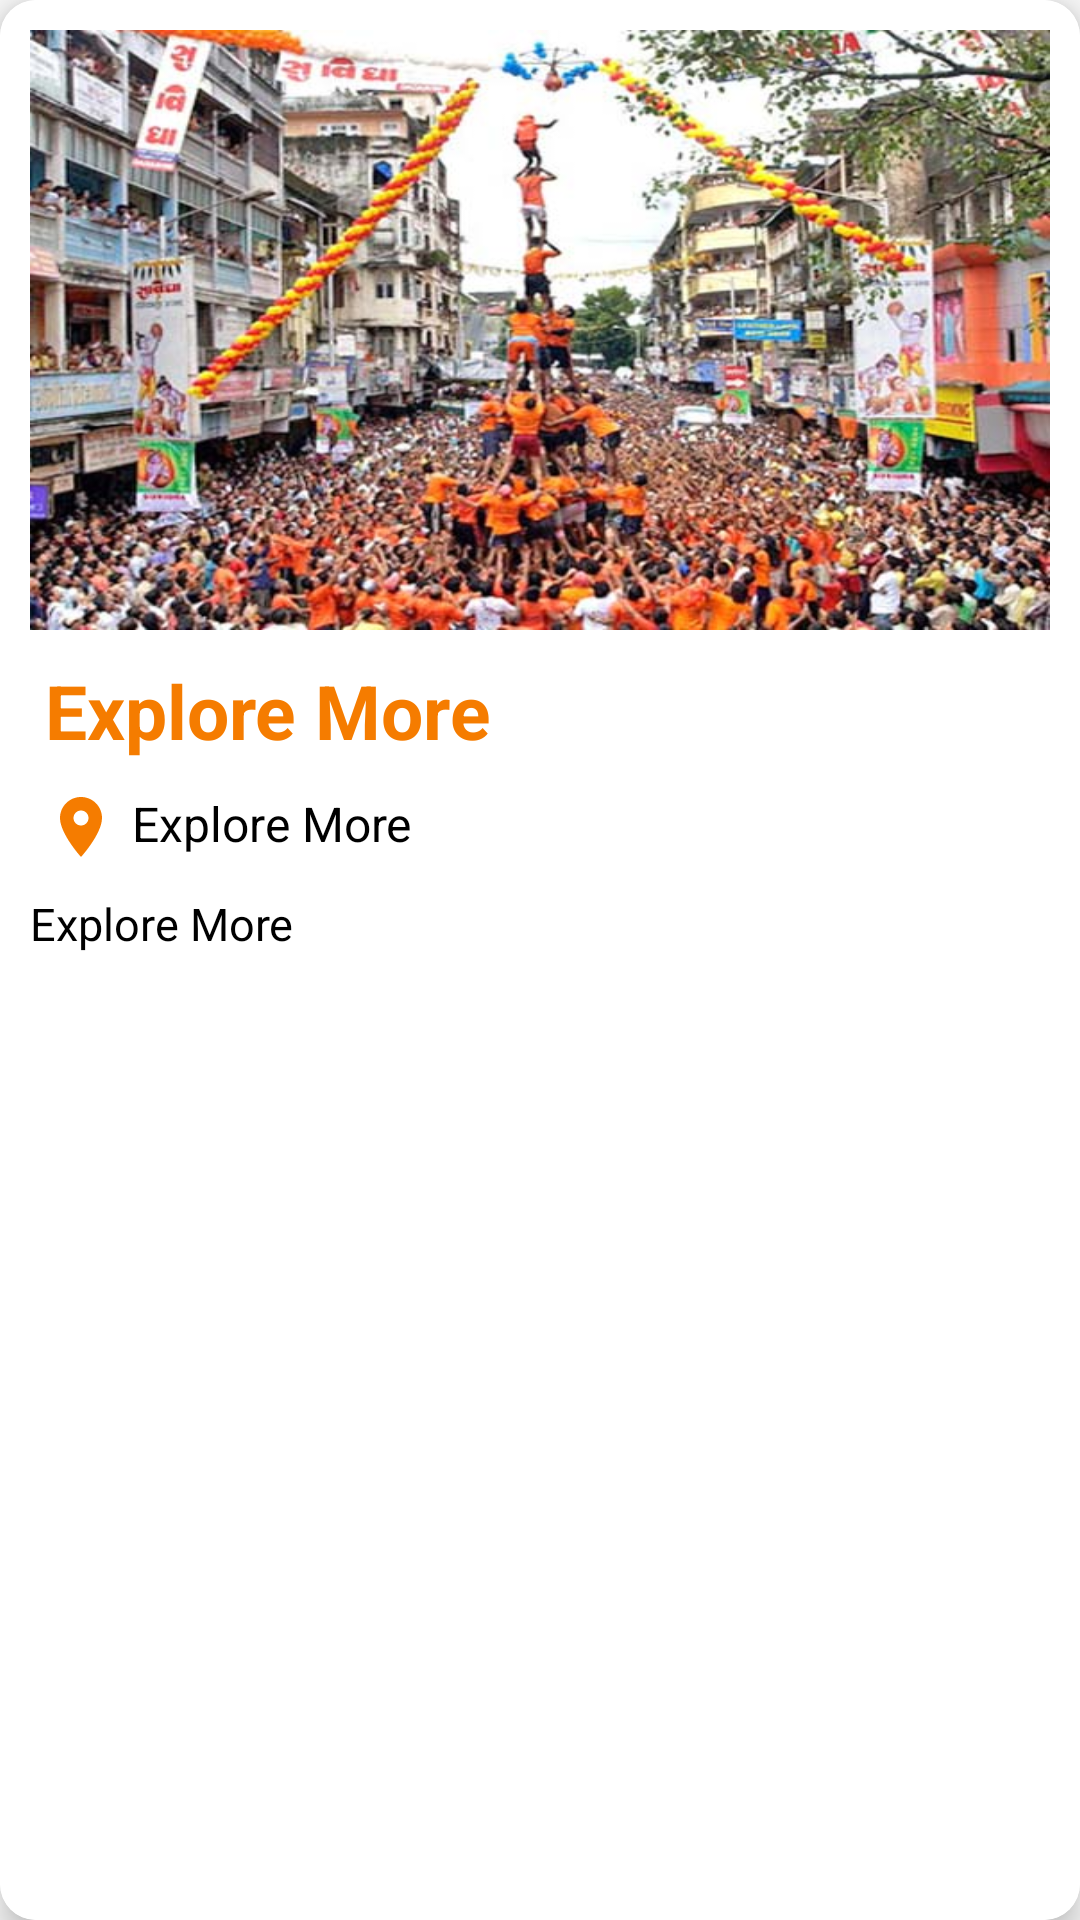

Where to tap for icons on this 1080 × 1920 app screen, as (x=x, y=y):
location on: (x=81, y=827)
